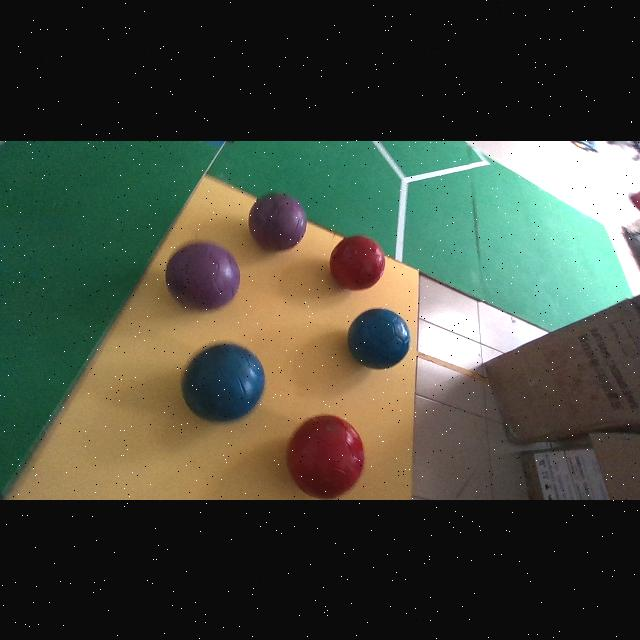B: (182, 343, 265, 421), (348, 308, 411, 368)
P: (166, 243, 240, 308), (249, 192, 307, 249)
R: (287, 414, 365, 497), (330, 234, 385, 289)
